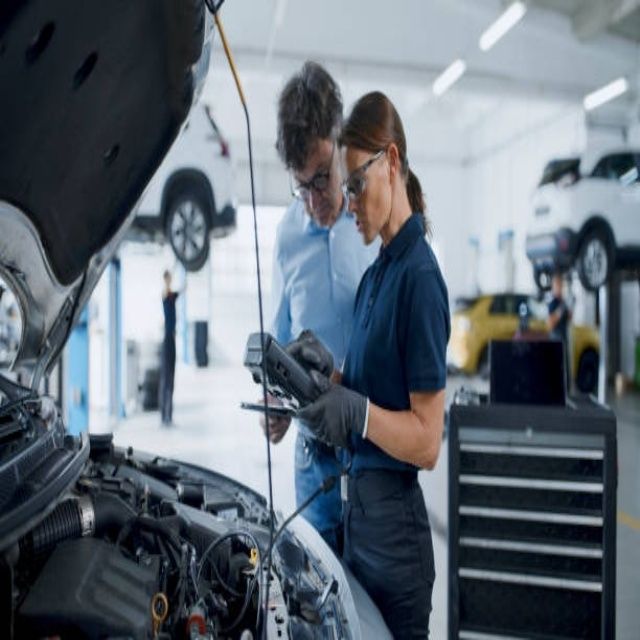Gafas: (292, 143, 338, 202), (341, 148, 389, 204)
Guantes: (296, 383, 369, 450), (283, 328, 336, 390)
Sin_guantes: (259, 405, 291, 444)
Sin_mascara: (307, 201, 333, 227), (353, 208, 374, 240)
